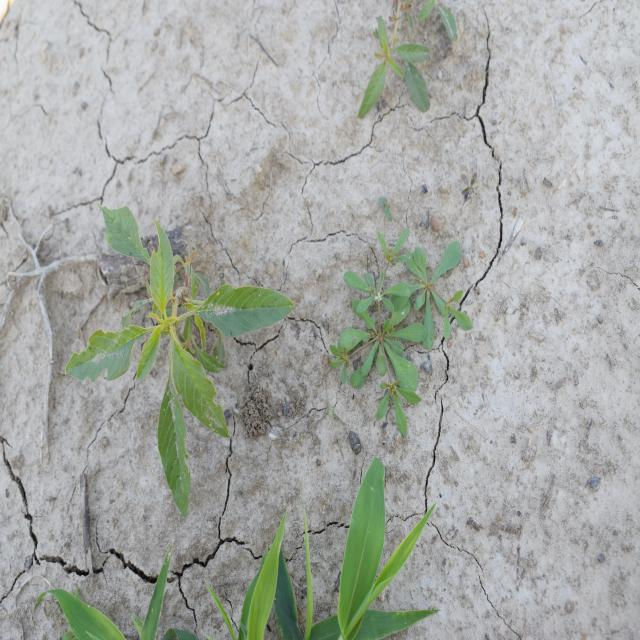Carpetweed: (327, 226, 474, 441)
Waterhemp: (64, 200, 297, 520), (356, 3, 460, 121)
